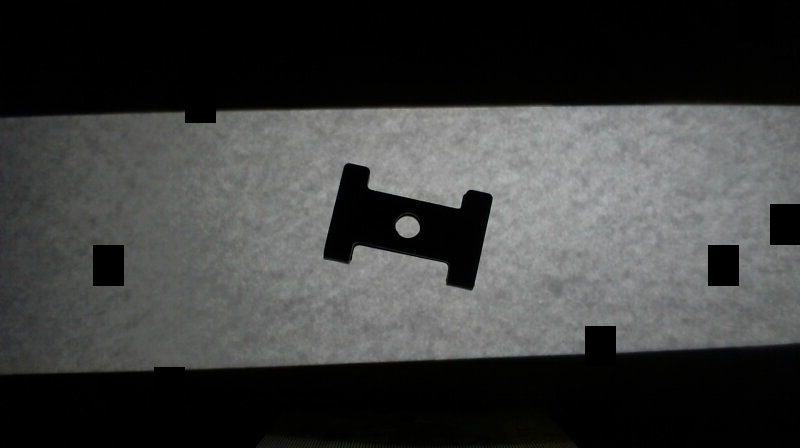O002: (318, 161, 496, 291)
